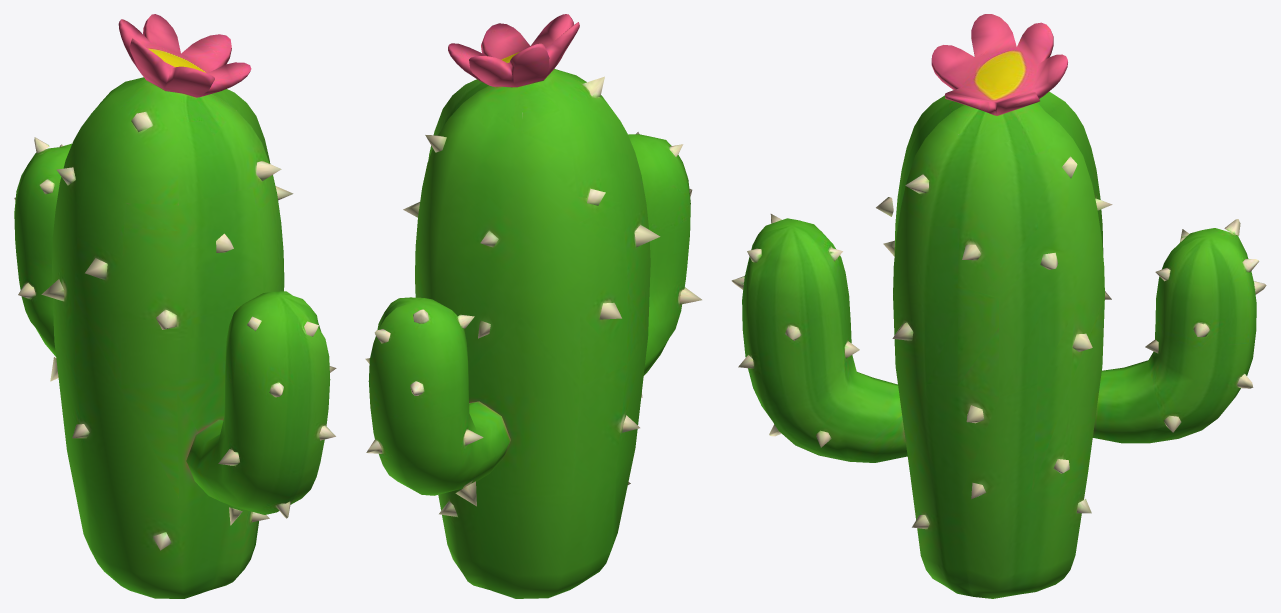
The model's file is cactus.glb.
The picture shows the model from 3 angles, left to right: view 1: azimuth 30°, elevation 25°; view 2: azimuth 150°, elevation 25°; view 3: azimuth 270°, elevation 25°; orthographic projection. The views are drawn at different scales.
Visible parts, largest first — view 1: tripo_node_228d8686-8711-4908-9cd1-8bd5cfc7aaae; view 2: tripo_node_228d8686-8711-4908-9cd1-8bd5cfc7aaae; view 3: tripo_node_228d8686-8711-4908-9cd1-8bd5cfc7aaae.
Part boxes in pixels (left/top/right/bottom): tripo_node_228d8686-8711-4908-9cd1-8bd5cfc7aaae: left=14, top=14, right=336, bottom=598; tripo_node_228d8686-8711-4908-9cd1-8bd5cfc7aaae: left=365, top=14, right=701, bottom=598; tripo_node_228d8686-8711-4908-9cd1-8bd5cfc7aaae: left=731, top=14, right=1266, bottom=598.
Size of the model in its own units: 0.9607 by 2.3 by 2.07.
1 material, 1 textured.
